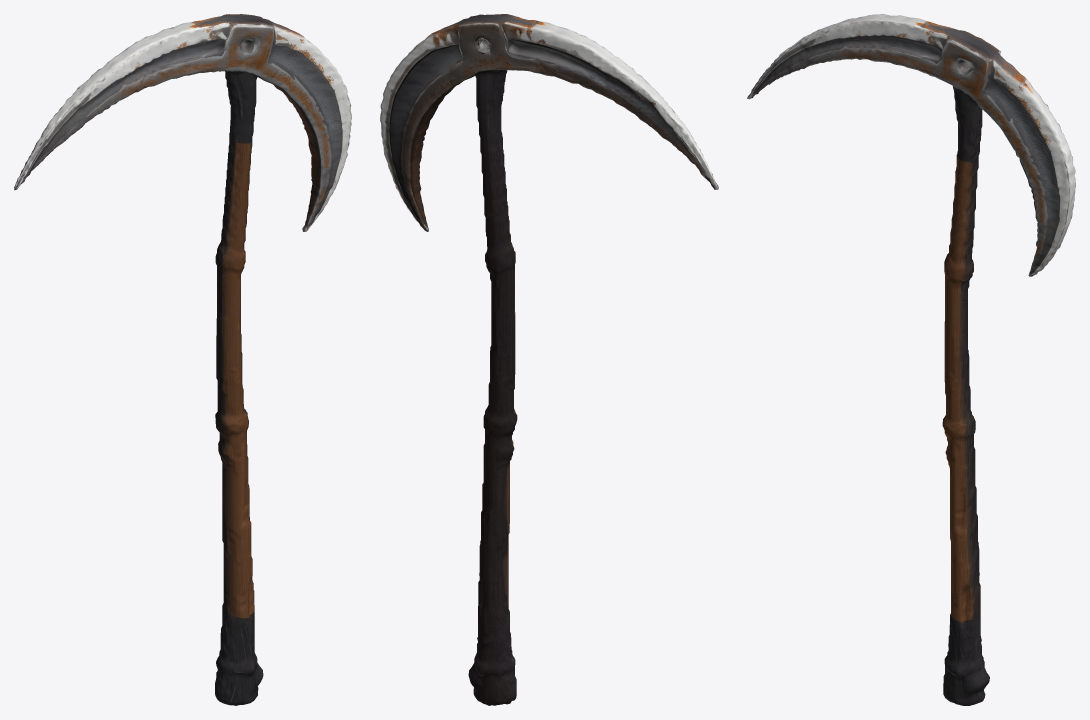
The model's file is reaper_scythe.glb.
The picture shows the model from 3 angles, left to right: view 1: azimuth 30°, elevation 25°; view 2: azimuth 150°, elevation 25°; view 3: azimuth 330°, elevation 25°; orthographic projection. The views are drawn at different scales.
Size of the model in its own units: 0.9746 by 1.91 by 0.1135.
Materials: 1 (1 with a texture image).
